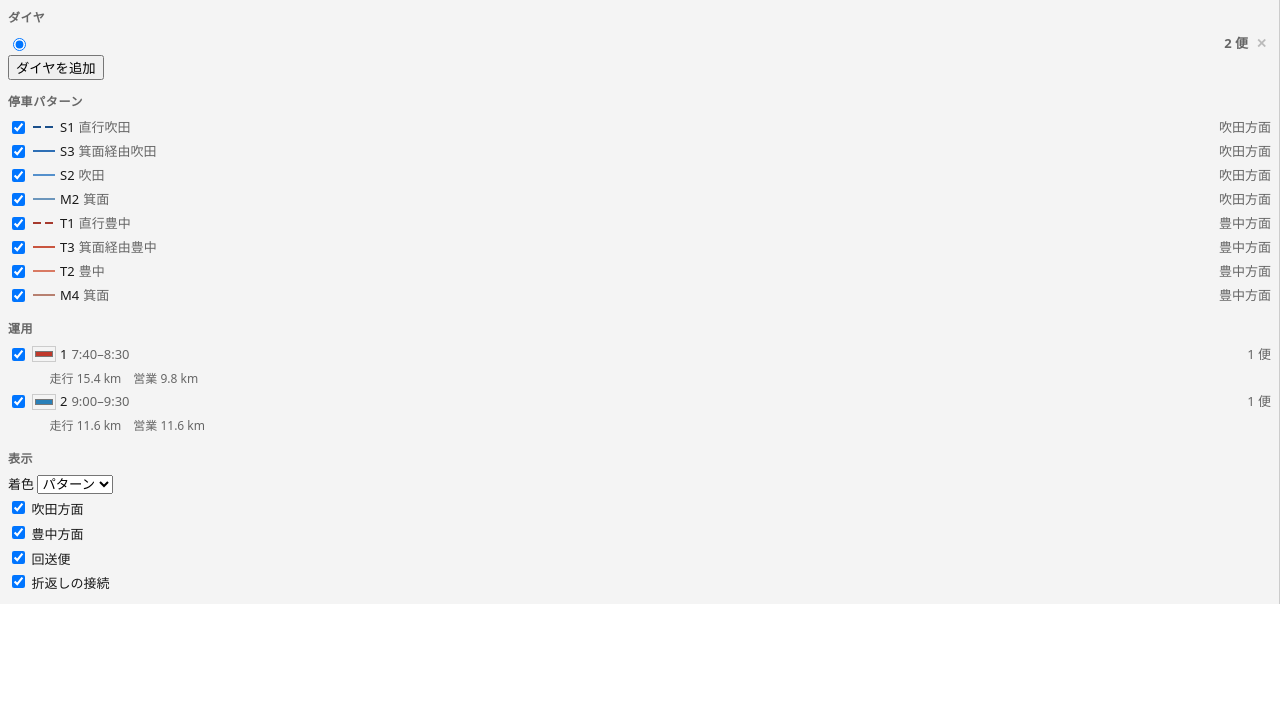
ダイヤ › **空の名前は書き込まない**（保存できても開けないファイルを作らない）
This screenshot has width=1280, height=720.
Clear the field named "授業期間平日ダイヤ の名前" at (627, 43), box [33,33,1220,54]
Leave the field named "授業期間平日ダイヤ の名前", box [33,33,1220,54]
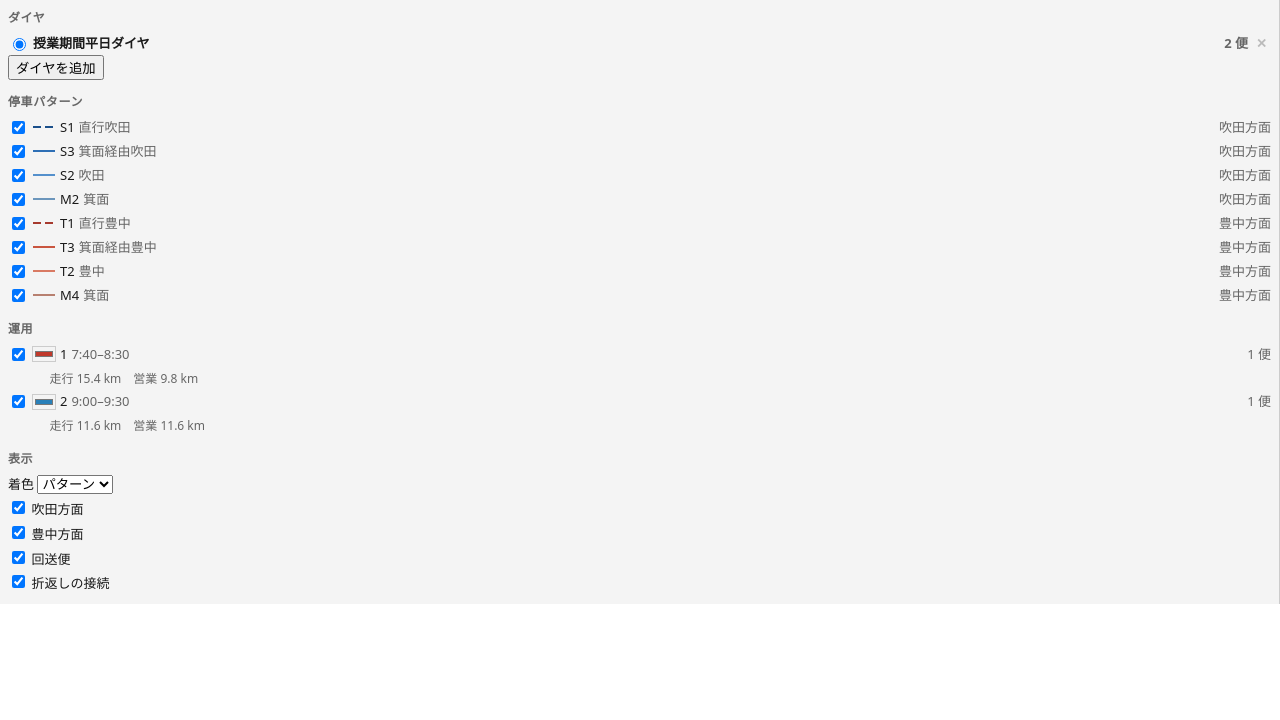
Check: the field named "授業期間平日ダイヤ の名前" holds "授業期間平日ダイヤ", box [33,33,1220,54]
